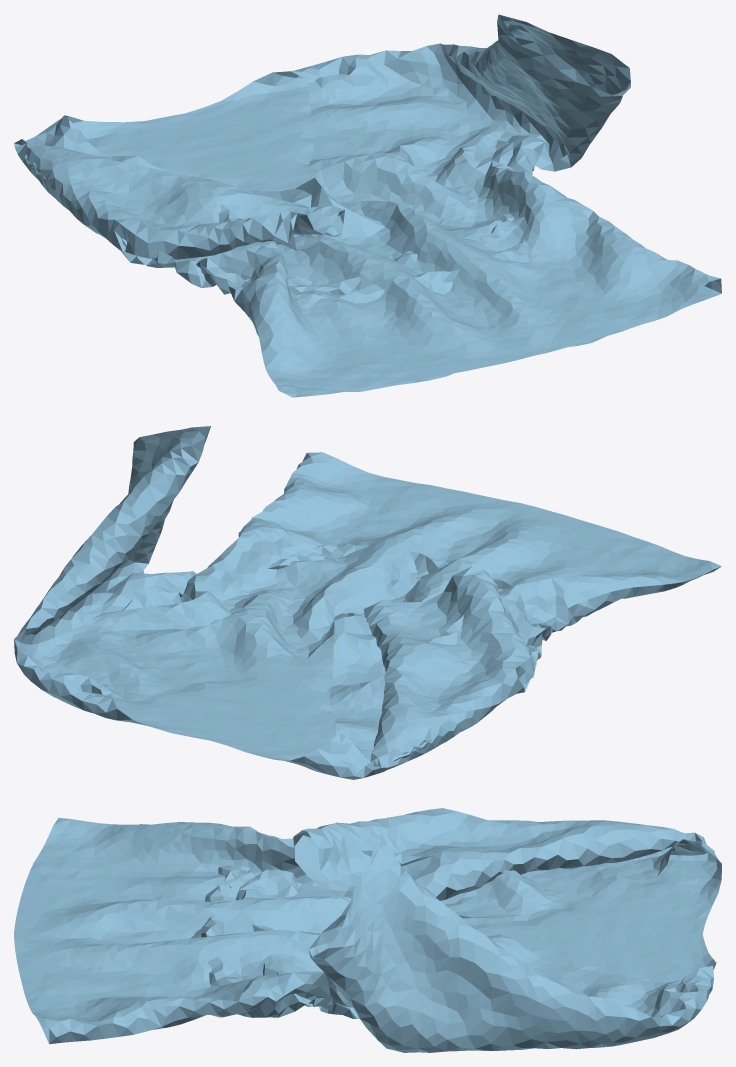
Rendered from frame_12.glb.
3 renders of one model, top to bottom at view 1: azimuth 30°, elevation 25°; view 2: azimuth 150°, elevation 25°; view 3: azimuth 270°, elevation 25°, orthographic. The views are drawn at different scales.
Parts seen in each view (by area): view 1: frame_12.obj; view 2: frame_12.obj; view 3: frame_12.obj.
Boxes of the visible parts, box(x1,y1,x2,y2) form: frame_12.obj: box(14, 14, 721, 397); frame_12.obj: box(14, 426, 721, 779); frame_12.obj: box(14, 808, 721, 1052).
Bounding box in the file's own units: 1.28 × 0.4618 × 1.58.
